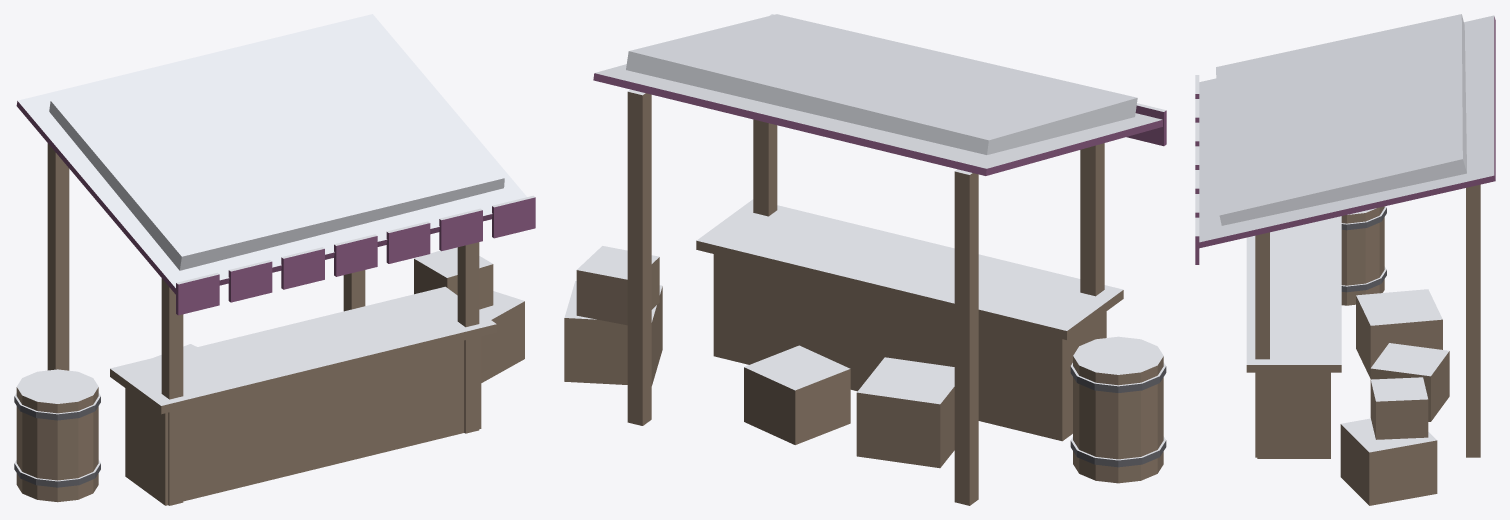
File: PR_Barraca.fbx
3 renders of one model, left to right at view 1: azimuth 30°, elevation 25°; view 2: azimuth 150°, elevation 25°; view 3: azimuth 270°, elevation 25°, orthographic. The views are drawn at different scales.
Parts seen in each view (by area): view 1: PR_Barraca; view 2: PR_Barraca; view 3: PR_Barraca.
Part boxes in pixels (box(x1,y1,x2,y2)): PR_Barraca: box(14, 14, 535, 505); PR_Barraca: box(564, 14, 1166, 505); PR_Barraca: box(1195, 14, 1495, 505).
Bounding box in the file's own units: 5.24 × 3.17 × 2.85.
